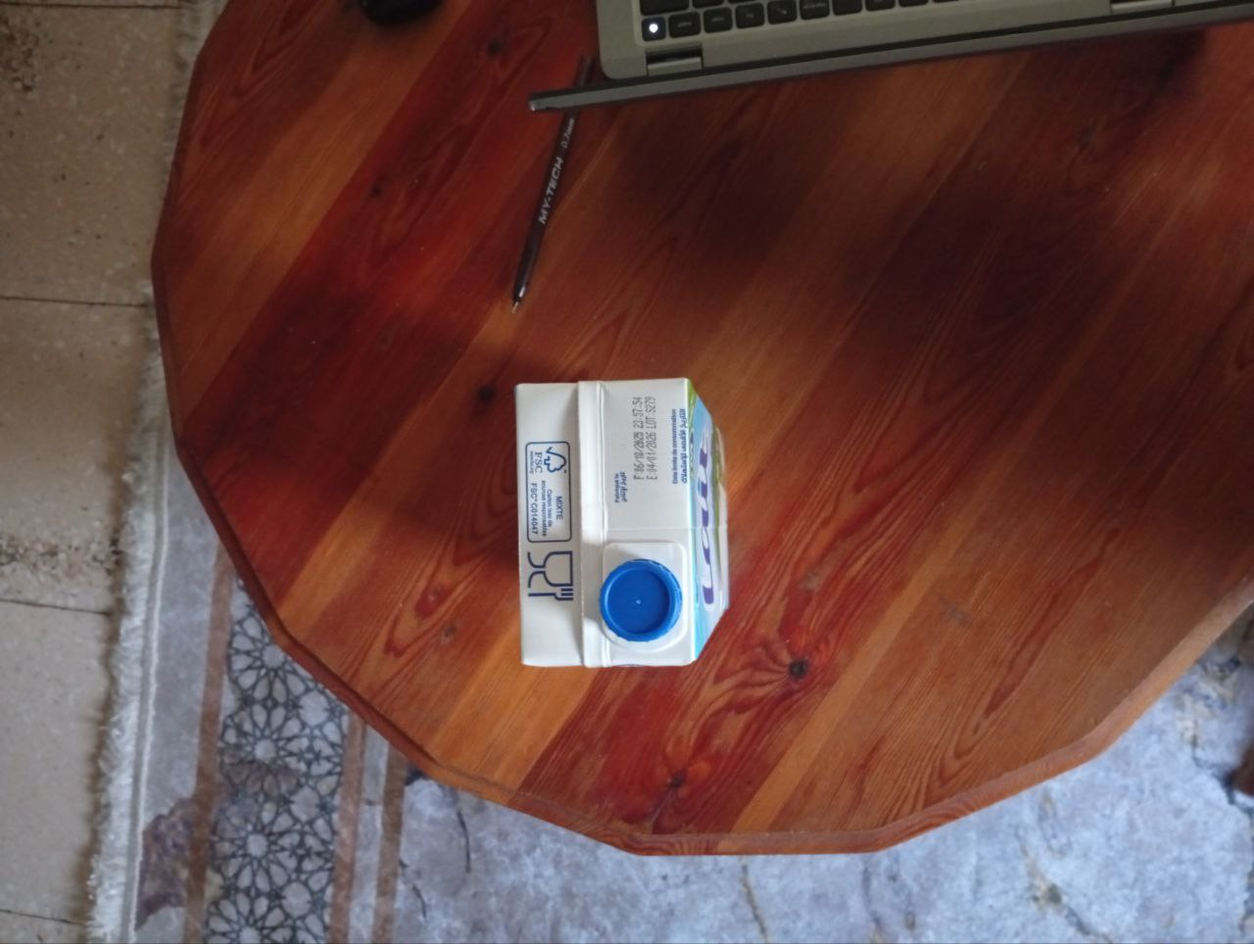soummam_milk: (509, 377, 731, 669)
